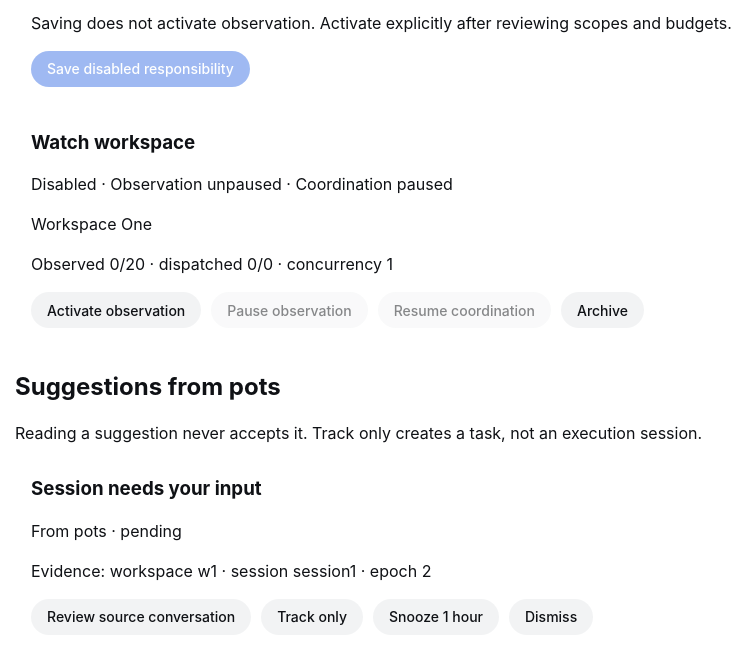
pots tracking checkpoint › sends activation with revision and generation, leaving coordination paused
The width and height of the screenshot is (748, 652).
(page scrolled)
Click the button "Activate observation": (116, 310) [31, 292, 201, 328]
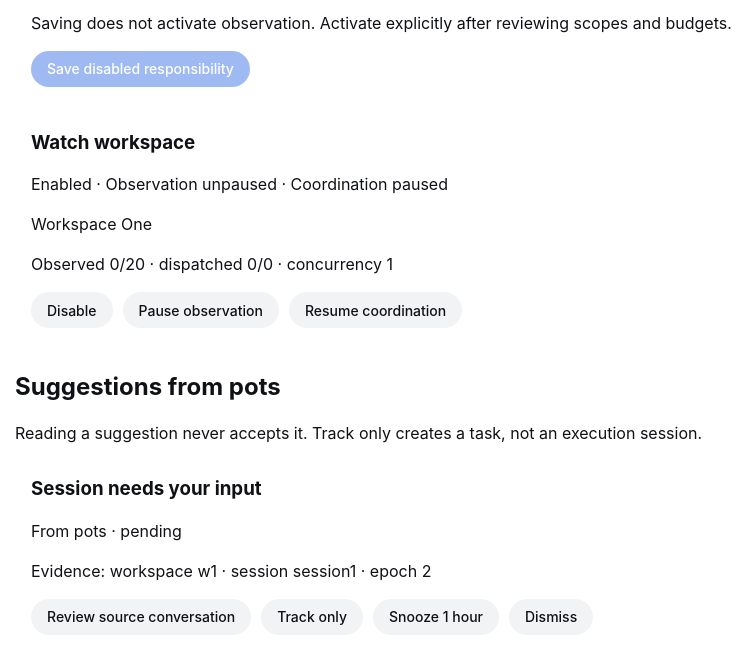
Expected: the text "Coordination paused" is shown, [31, 174, 448, 194]
Expected: the button "Pause observation" is enabled, [122, 292, 279, 328]
